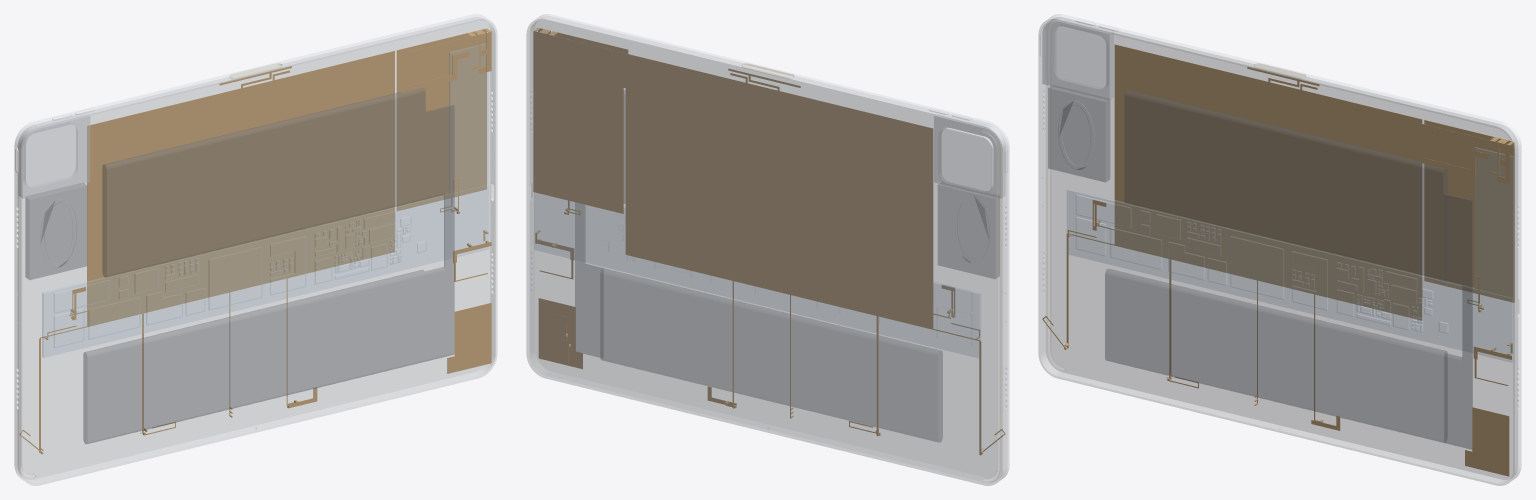
Rendered from model_full.glb.
3 views of the same model, side by side, from view 1: azimuth 30°, elevation 25°; view 2: azimuth 150°, elevation 25°; view 3: azimuth 330°, elevation 25° (orthographic).
Visible parts, largest first — view 1: screen, housing, antenna, battery, pcb, left_below, cam, better_material; view 2: housing, antenna, battery, pcb, left_below, cam, better_material; view 3: screen, housing, antenna, battery, pcb, left_below, cam, better_material.
Boxes of the visible parts, left/top/right/bottom form: screen: left=23, top=21, right=494, bottom=483; housing: left=14, top=14, right=497, bottom=485; antenna: left=19, top=28, right=491, bottom=454; battery: left=83, top=88, right=454, bottom=443; pcb: left=42, top=43, right=488, bottom=357; left_below: left=25, top=183, right=86, bottom=279; cam: left=18, top=113, right=89, bottom=198; better_material: left=19, top=63, right=281, bottom=477; housing: left=526, top=14, right=1009, bottom=485; antenna: left=533, top=27, right=1005, bottom=455; battery: left=575, top=90, right=942, bottom=442; pcb: left=534, top=193, right=980, bottom=357; left_below: left=938, top=184, right=999, bottom=278; cam: left=934, top=113, right=1005, bottom=198; better_material: left=742, top=63, right=999, bottom=481; screen: left=1041, top=21, right=1512, bottom=483; housing: left=1038, top=14, right=1521, bottom=485; antenna: left=1042, top=44, right=1514, bottom=476; battery: left=1105, top=90, right=1472, bottom=449; pcb: left=1067, top=147, right=1513, bottom=362; left_below: left=1048, top=85, right=1109, bottom=182; cam: left=1042, top=18, right=1113, bottom=99; better_material: left=1047, top=63, right=1305, bottom=370.
Size of the model in its own units: 0.2483 by 0.179 by 0.00701.
